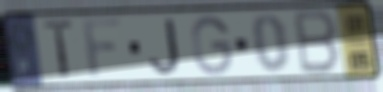0: (249, 12, 294, 76)
B: (293, 9, 342, 77)
F: (80, 15, 127, 83)
G: (190, 14, 235, 77)
J: (147, 17, 183, 77)
T: (42, 17, 77, 83)
